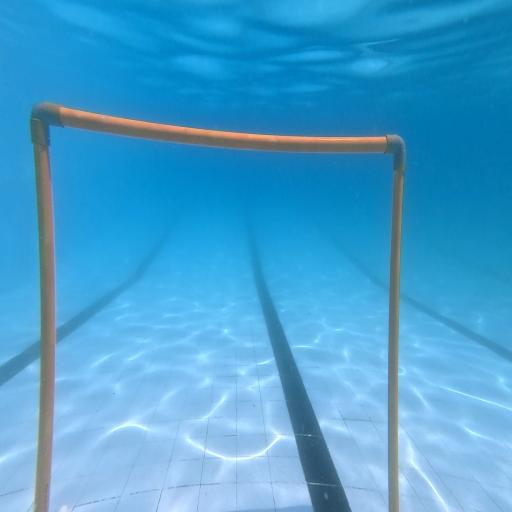gate: (30, 99, 405, 512)
